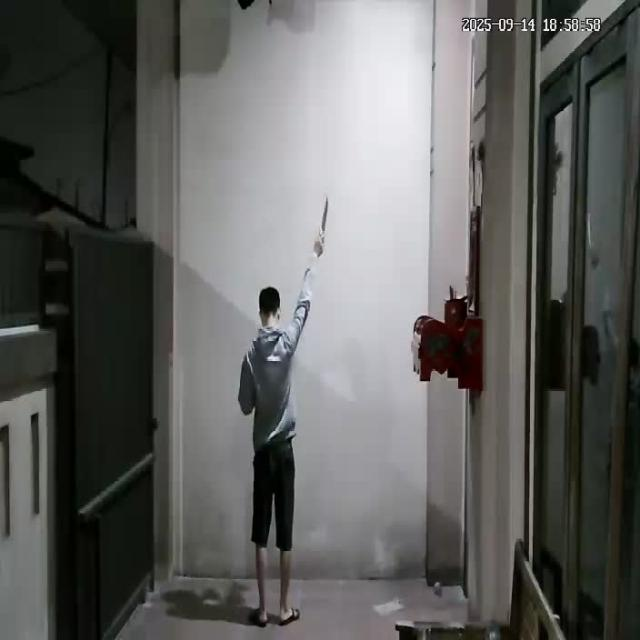senjata_tajam: (319, 192, 329, 232)
